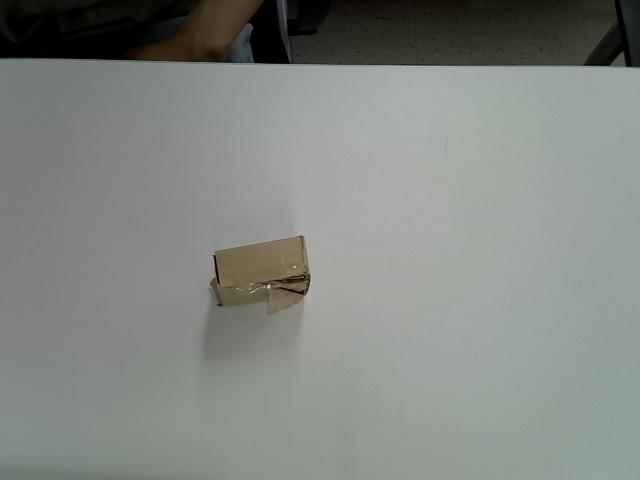defect: (209, 234, 313, 317)
